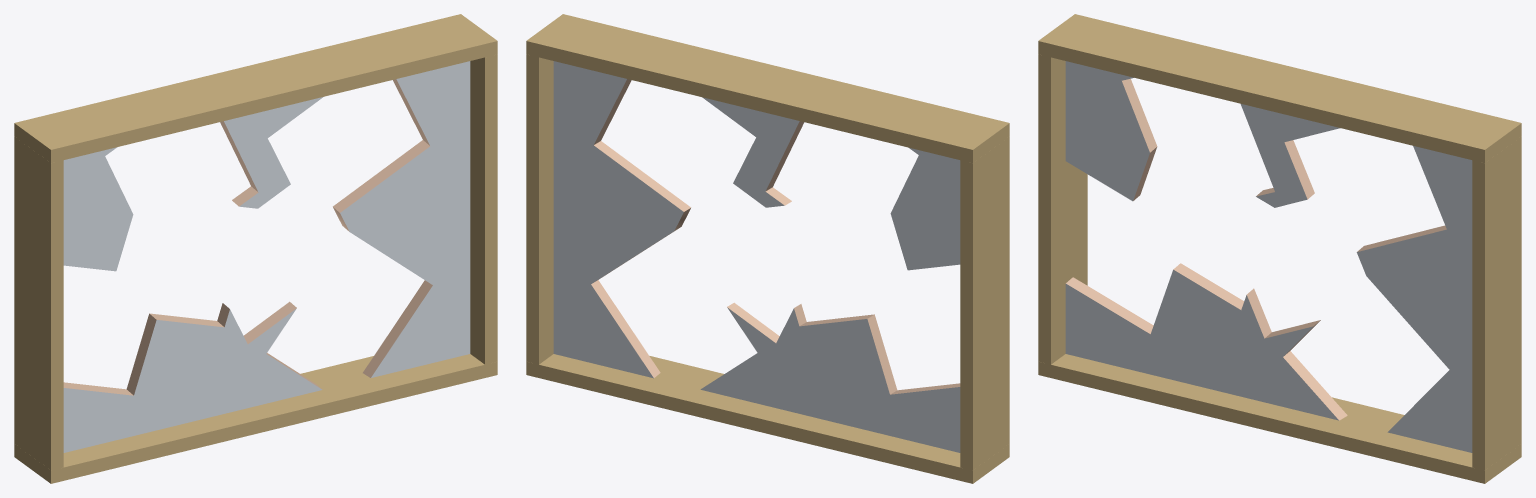
The model's file is Ventana2.gltf.
3 views of the same model, side by side, from view 1: azimuth 30°, elevation 25°; view 2: azimuth 150°, elevation 25°; view 3: azimuth 330°, elevation 25° (orthographic).
Parts seen in each view (by area): view 1: Part (×4), Union; view 2: Part (×4), Union; view 3: Part (×4), Union.
Boxes of the visible parts, x1,y1,x2,y2 form: Part (×4): [14, 14, 497, 483]; Union: [63, 61, 470, 452]; Part (×4): [526, 14, 1009, 483]; Union: [553, 61, 960, 452]; Part (×4): [1038, 14, 1521, 483]; Union: [1065, 61, 1472, 452].
Size of the model in its own units: 7 by 5 by 1.
